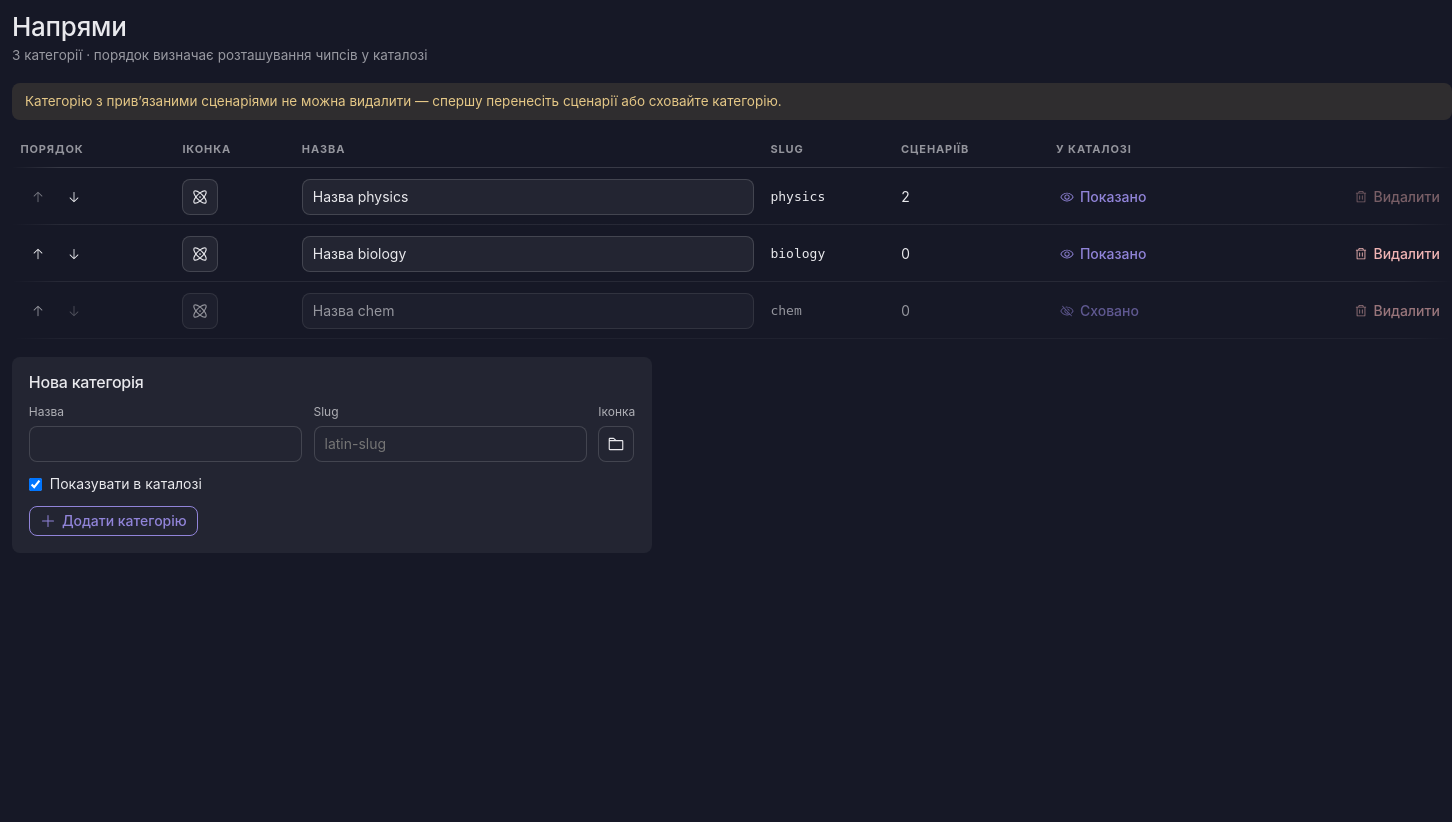
Scenario: CategoriesComponent › reorder (DW-7.3) › DW-7.3 a conflict (409) shows the message and re-reads the list
Click the button named "Нижче: Назва physics": (74, 197) [56,179,92,215]
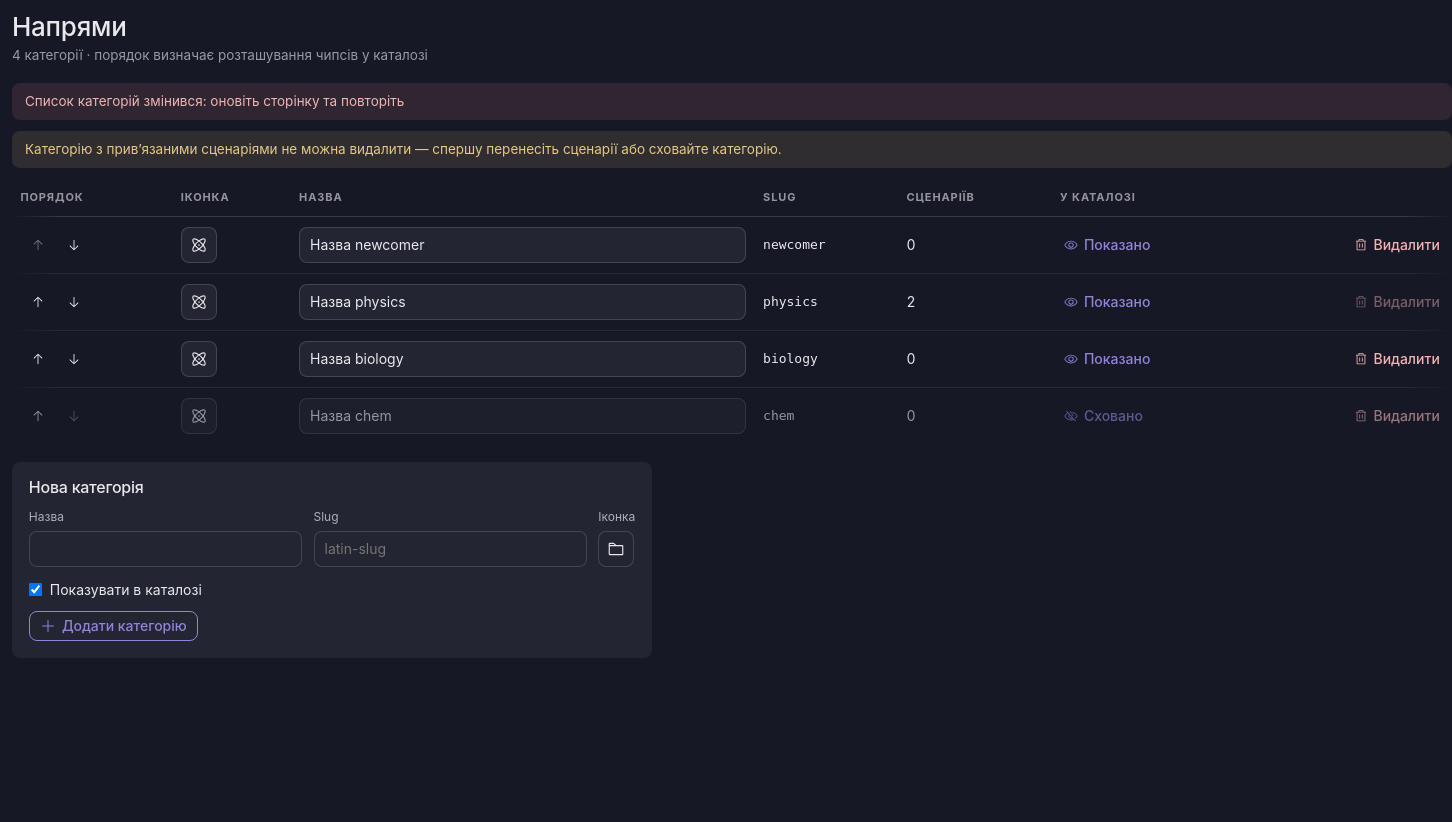
Now the message "Список категорій змінився: оновіть сторінку та повторіть" is shown, box [12,83,1451,120]
Now the cell "newcomer" is shown, box [755,216,898,274]
